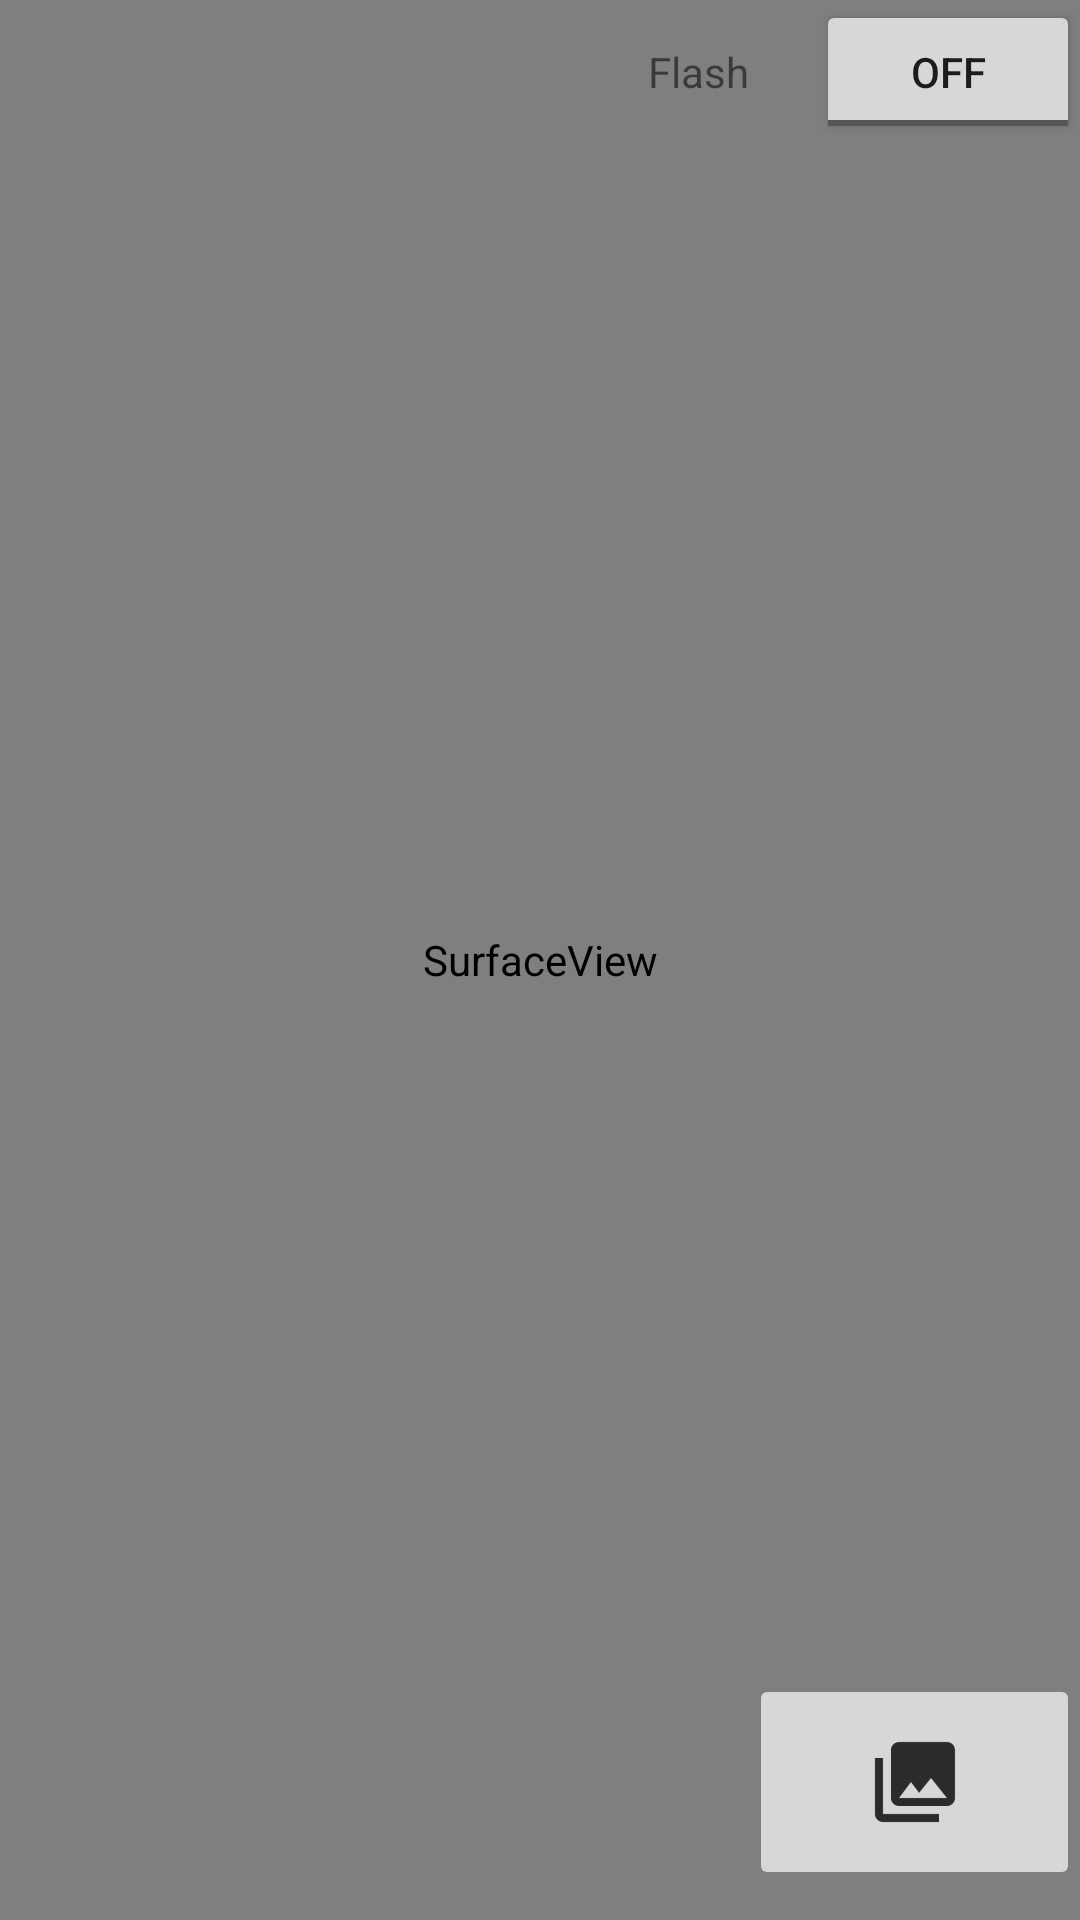

Icon click points for this 1080*1920 phone screenshot, format point (x, y):
gallery: point (914, 1782)
